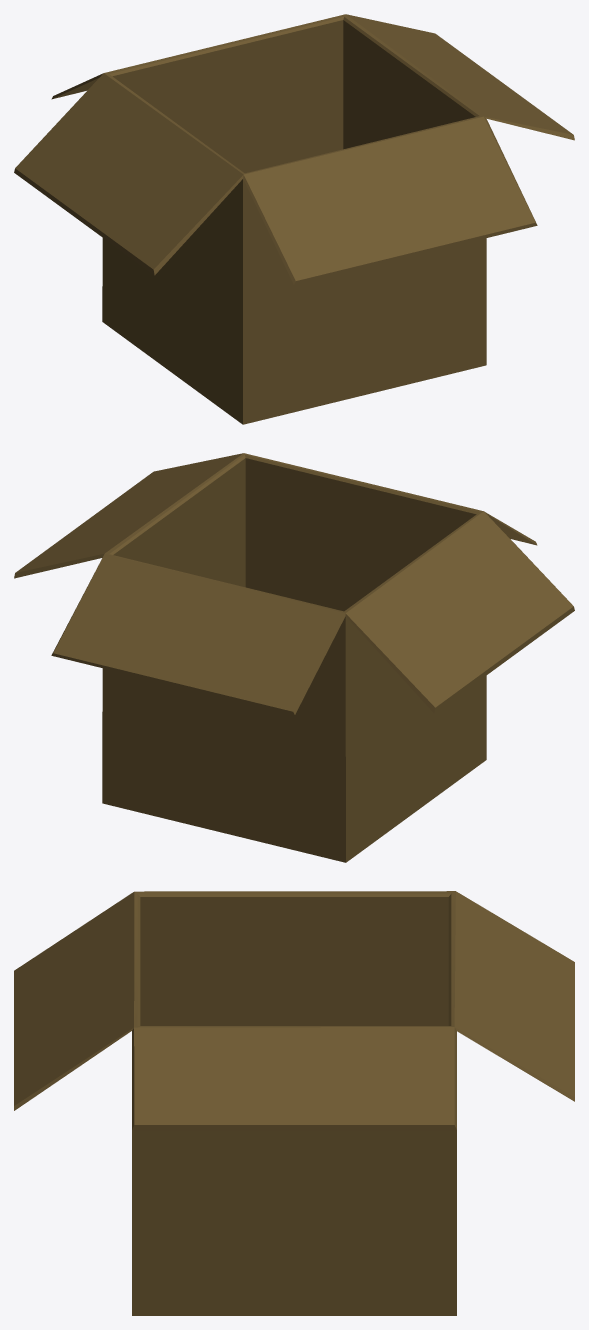
The model's file is Cardboard.fbx.
3 renders of one model, top to bottom at view 1: azimuth 30°, elevation 25°; view 2: azimuth 150°, elevation 25°; view 3: azimuth 270°, elevation 25°, orthographic. The views are drawn at different scales.
Visible parts, largest first — view 1: Cardboard_Box_01; view 2: Cardboard_Box_01; view 3: Cardboard_Box_01.
Part boxes in pixels (box(x1,y1,x2,y2)): Cardboard_Box_01: box(14, 14, 574, 424); Cardboard_Box_01: box(14, 453, 574, 862); Cardboard_Box_01: box(14, 891, 574, 1315).
Size of the model in its own units: 1.82 by 1.03 by 1.82.
